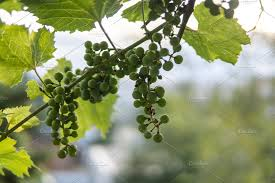grapes: (134, 37, 174, 139), (42, 76, 88, 157), (88, 39, 131, 103)
